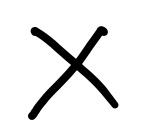mult: (28, 27, 119, 120)
